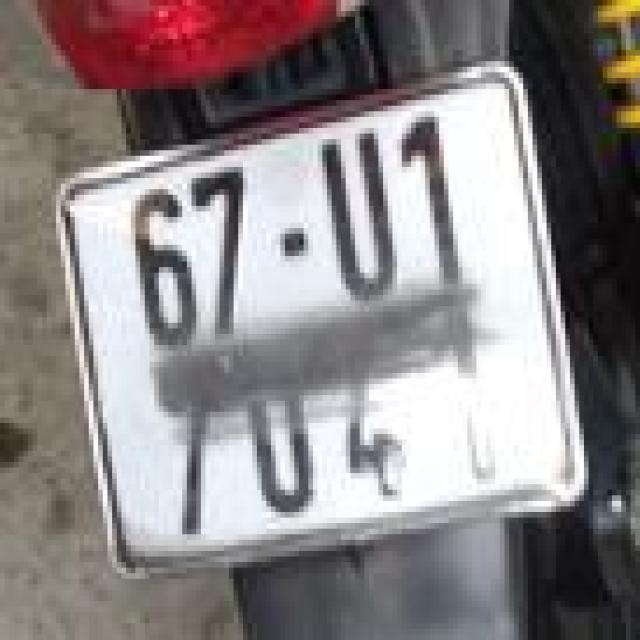0: (236, 340, 325, 518)
1: (397, 106, 481, 295), (428, 295, 502, 484)
4: (334, 326, 418, 504)
6: (110, 175, 198, 354)
7: (140, 350, 224, 540), (187, 161, 266, 345)
U: (315, 122, 404, 312)
